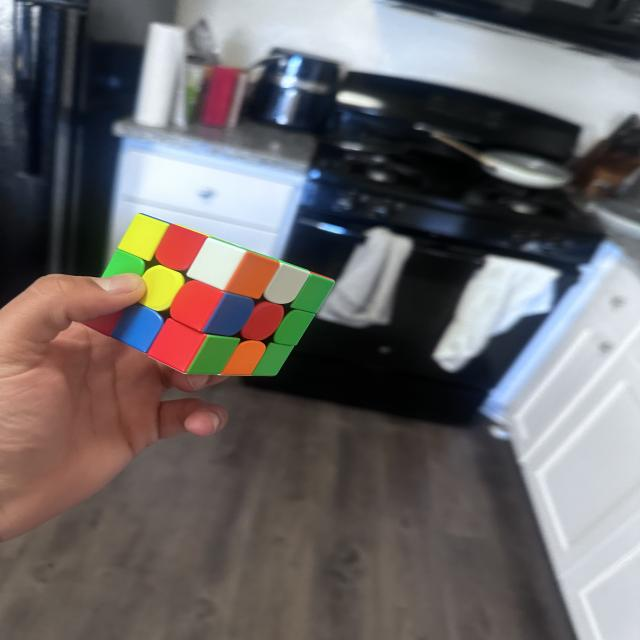sticker: (187, 238, 248, 292), (146, 319, 206, 372), (169, 279, 226, 333), (226, 250, 282, 301), (109, 303, 164, 353), (154, 222, 207, 270), (116, 213, 169, 261), (202, 292, 256, 338), (261, 260, 311, 306), (138, 264, 185, 312), (187, 334, 240, 376), (290, 271, 338, 314), (239, 300, 284, 342), (218, 339, 266, 377), (272, 309, 315, 347), (100, 248, 145, 280), (252, 343, 294, 377), (80, 308, 123, 337)
